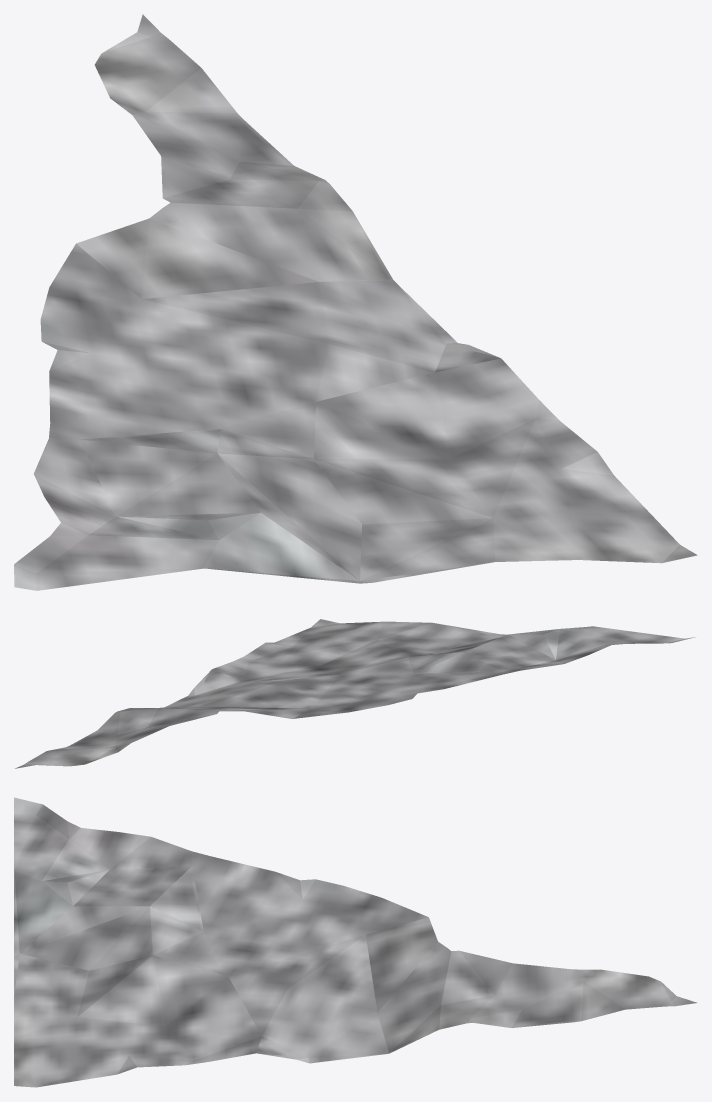
The picture shows the model from 3 angles, top to bottom: view 1: azimuth 30°, elevation 25°; view 2: azimuth 150°, elevation 25°; view 3: azimuth 270°, elevation 25°; orthographic projection. The views are drawn at different scales.
Bounding box in the file's own units: 0.1853 × 0.0356 × 0.2606.
Materials: 1 (1 with a texture image).
